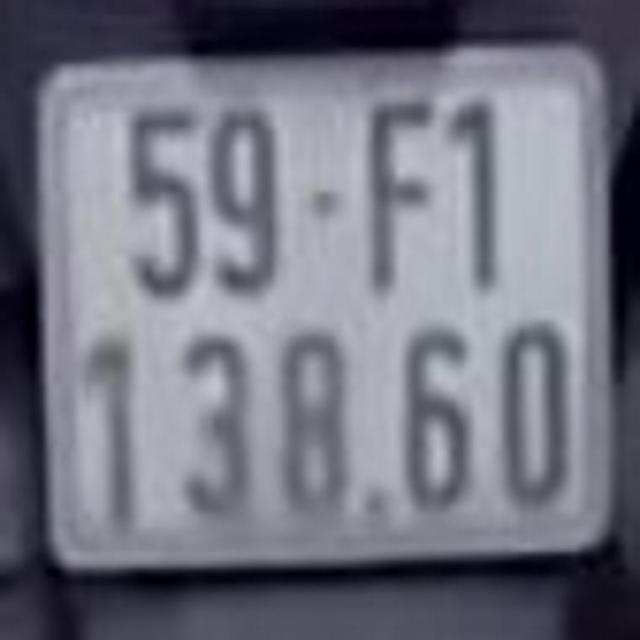0: (496, 322, 578, 500)
1: (451, 99, 512, 284), (82, 334, 140, 524)
3: (184, 329, 254, 521)
5: (128, 105, 202, 296)
6: (405, 326, 477, 514)
8: (276, 327, 356, 520)
9: (212, 104, 286, 294)
F: (365, 98, 443, 293)
